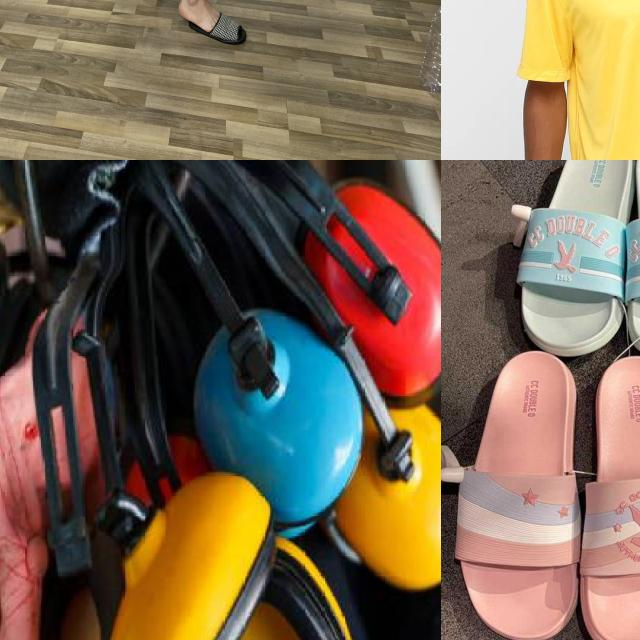Ear-protection: (110, 476, 383, 640), (182, 284, 372, 510), (283, 169, 441, 383), (15, 484, 146, 640), (334, 398, 441, 574)
Sandals: (441, 326, 640, 640), (506, 160, 640, 378), (178, 0, 251, 44)
